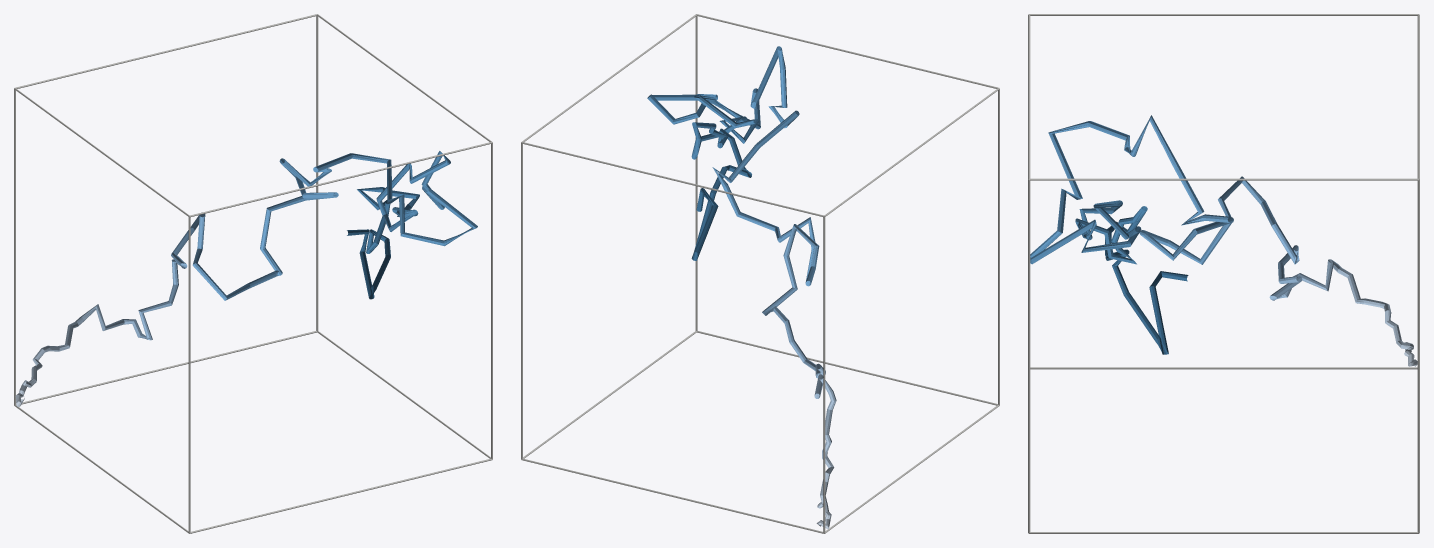
3 renders of one model, left to right at view 1: azimuth 30°, elevation 25°; view 2: azimuth 150°, elevation 25°; view 3: azimuth 270°, elevation 25°, orthographic. The views are drawn at different scales.
Parts seen in each view (by area): view 1: geometry_0, geometry_1; view 2: geometry_0, geometry_1; view 3: geometry_0, geometry_1.
Boxes of the visible parts, x1=… form: geometry_0: x1=15, y1=151, x2=477, y2=406; geometry_1: x1=14, y1=14, x2=492, y2=533; geometry_0: x1=647, y1=46, x2=836, y2=529; geometry_1: x1=521, y1=14, x2=999, y2=533; geometry_0: x1=1030, y1=115, x2=1417, y2=366; geometry_1: x1=1028, y1=14, x2=1419, y2=533.
Bounding box in the file's own units: 0.3038 × 0.3014 × 0.3016.
